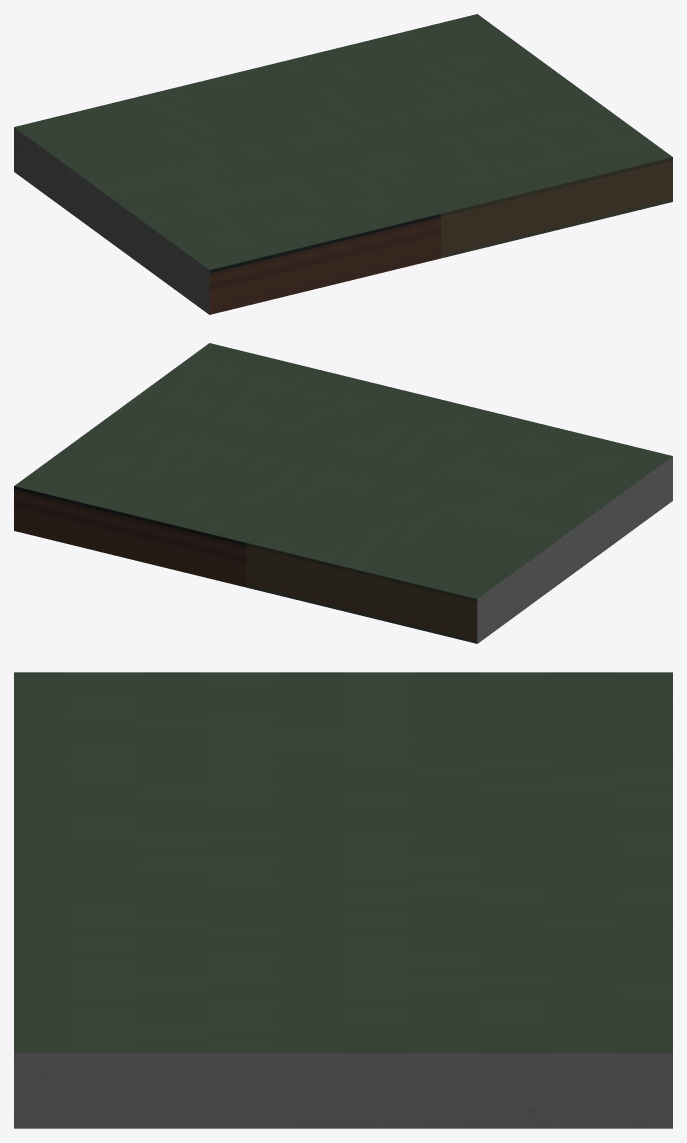
The model's file is prop_textbook-0.glb.
3 views of the same model, one above another, from view 1: azimuth 30°, elevation 25°; view 2: azimuth 150°, elevation 25°; view 3: azimuth 270°, elevation 25° (orthographic). The views are drawn at different scales.
Parts seen in each view (by area): view 1: prop_textbook-0; view 2: prop_textbook-0; view 3: prop_textbook-0.
Boxes of the visible parts, <box> form: prop_textbook-0: <box>14,14,672,314</box>; prop_textbook-0: <box>14,343,672,643</box>; prop_textbook-0: <box>14,672,672,1128</box>.
Bounding box in the file's own units: 0.26 × 0.024 × 0.19.
3 materials, 3 textured.
